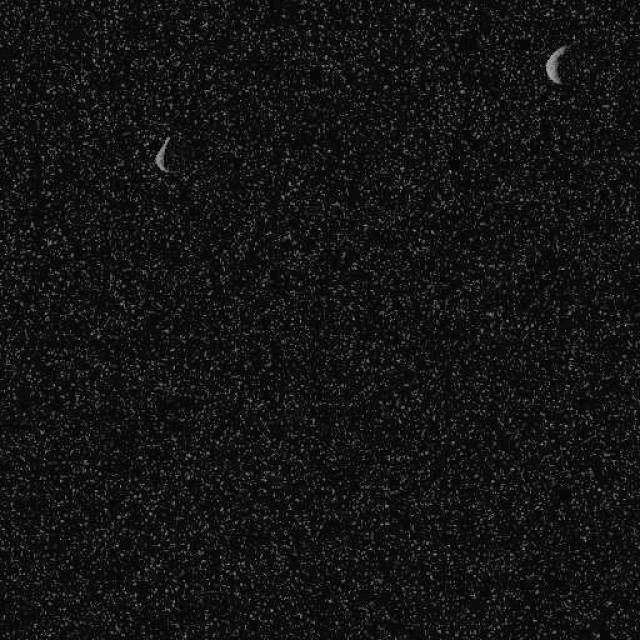D2: (544, 43, 570, 85), (152, 134, 178, 175)
